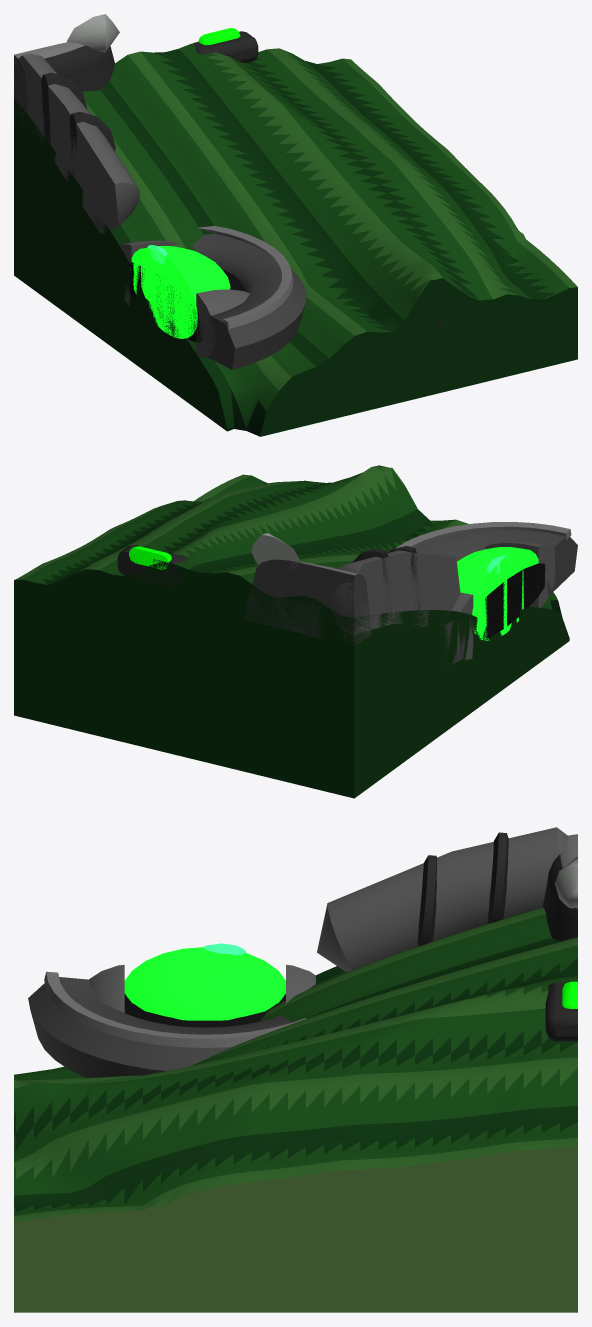
Rendered from green_shell_eye_233.glb.
3 renders of one model, top to bottom at view 1: azimuth 30°, elevation 25°; view 2: azimuth 150°, elevation 25°; view 3: azimuth 270°, elevation 25°, orthographic. The views are drawn at different scales.
Visible parts, largest first — view 1: carapace, stalk, eye_ring, eye, housing, eye_ring_hi, lid-1, strut-6, lamp_frame14, socket, stalk_ring-4, stalk_ring-8 (+1 smaller); view 2: carapace, stalk, housing, eye_ring, eye, socket, eye_ring_hi, lamp_frame14, lid-1, strut-6, lamp14, lid1; view 3: carapace, stalk, eye_ring, eye, eye_ring_hi, housing, lamp_frame14, stalk_ring-4, stalk_ring-8, socket, lid-1, strut-6 (+1 smaller).
Part boxes in pixels (x1,y1,x2,y2): carapace: (14, 43, 577, 436); stalk: (14, 53, 139, 232); eye_ring: (100, 233, 306, 369); eye: (131, 246, 230, 338); housing: (14, 42, 114, 134); eye_ring_hi: (99, 226, 293, 328); lid-1: (196, 289, 249, 357); strut-6: (67, 14, 119, 52); lamp_frame14: (193, 31, 258, 62); socket: (127, 262, 245, 342); stalk_ring-4: (41, 72, 87, 144); stalk_ring-8: (69, 111, 115, 177); carapace: (14, 465, 569, 798); stalk: (330, 550, 460, 634); housing: (244, 559, 371, 645); eye_ring: (414, 529, 577, 666); eye: (457, 547, 539, 640); socket: (460, 563, 545, 638); eye_ring_hi: (395, 522, 571, 624); lamp_frame14: (117, 545, 187, 586); lid-1: (485, 541, 555, 607); strut-6: (251, 533, 300, 570); lamp14: (129, 546, 171, 569); lid1: (451, 592, 473, 659); carapace: (14, 907, 577, 1312); stalk: (317, 827, 567, 971); eye_ring: (28, 977, 292, 1077); eye: (124, 947, 285, 1020); eye_ring_hi: (44, 971, 305, 1047); housing: (542, 834, 577, 941); lamp_frame14: (545, 982, 577, 1041); stalk_ring-4: (487, 832, 508, 923); stalk_ring-8: (417, 855, 437, 946); socket: (124, 994, 285, 1027); lid-1: (88, 964, 124, 1012); strut-6: (555, 856, 577, 908).
Size of the model in its own units: 24 by 16.28 by 28.
